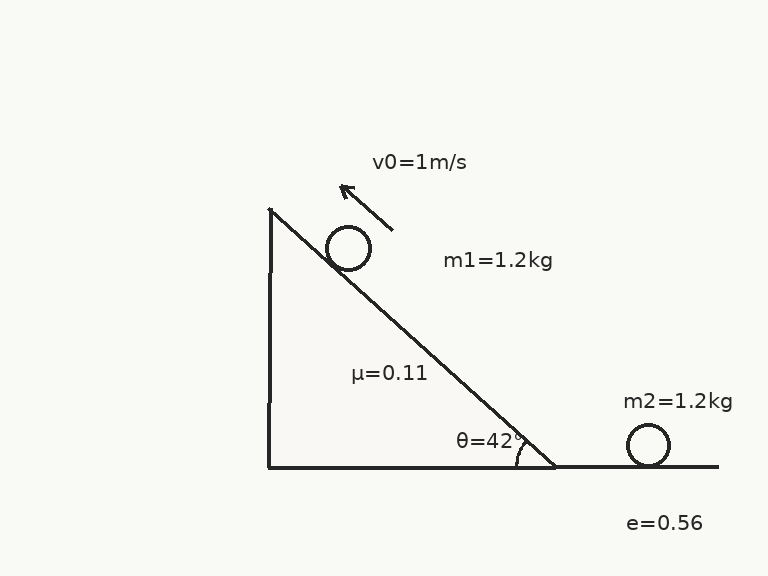ball: (323, 223, 373, 273), (624, 421, 672, 469)
ramp: (266, 206, 558, 469)
